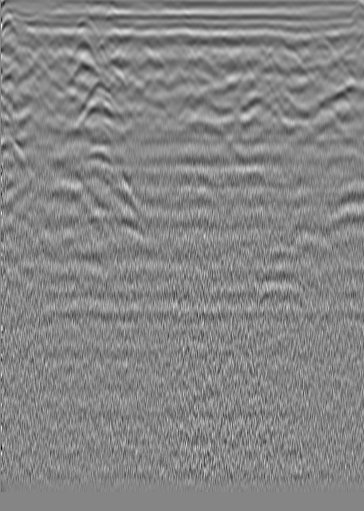가스: (65, 177, 102, 212)
상수: (334, 37, 354, 57)
오수: (36, 35, 56, 55)
우수: (195, 43, 215, 63)
